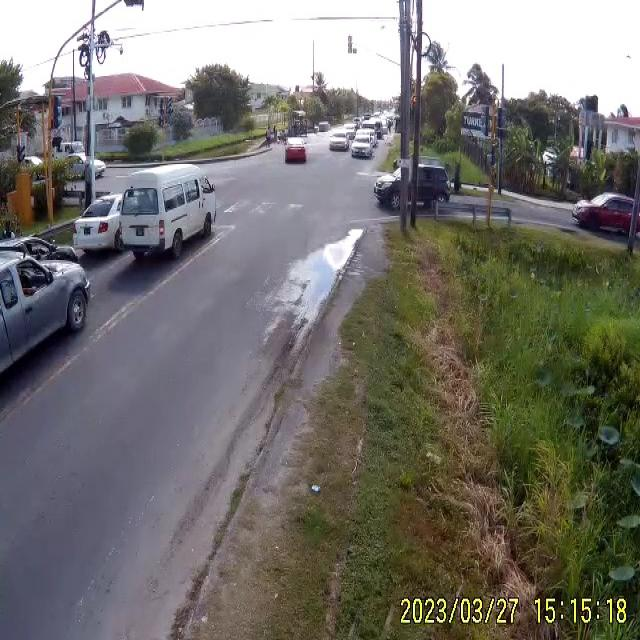car: (121, 166, 216, 260), (73, 185, 123, 261), (377, 159, 451, 210), (574, 195, 638, 236), (0, 238, 54, 262), (352, 135, 377, 160), (284, 140, 306, 166), (328, 131, 351, 154)
